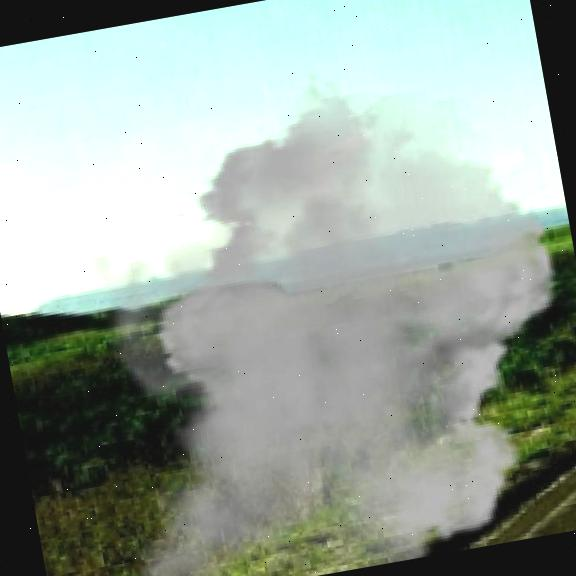smoke: (0, 30, 576, 576)
